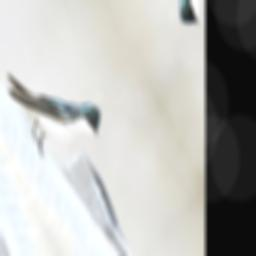Swallow: (0, 18, 110, 187)
